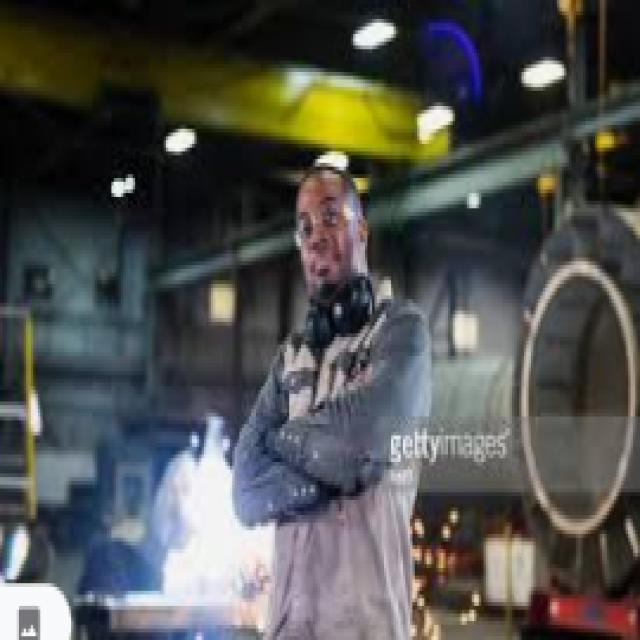glasses: (293, 198, 371, 251)
